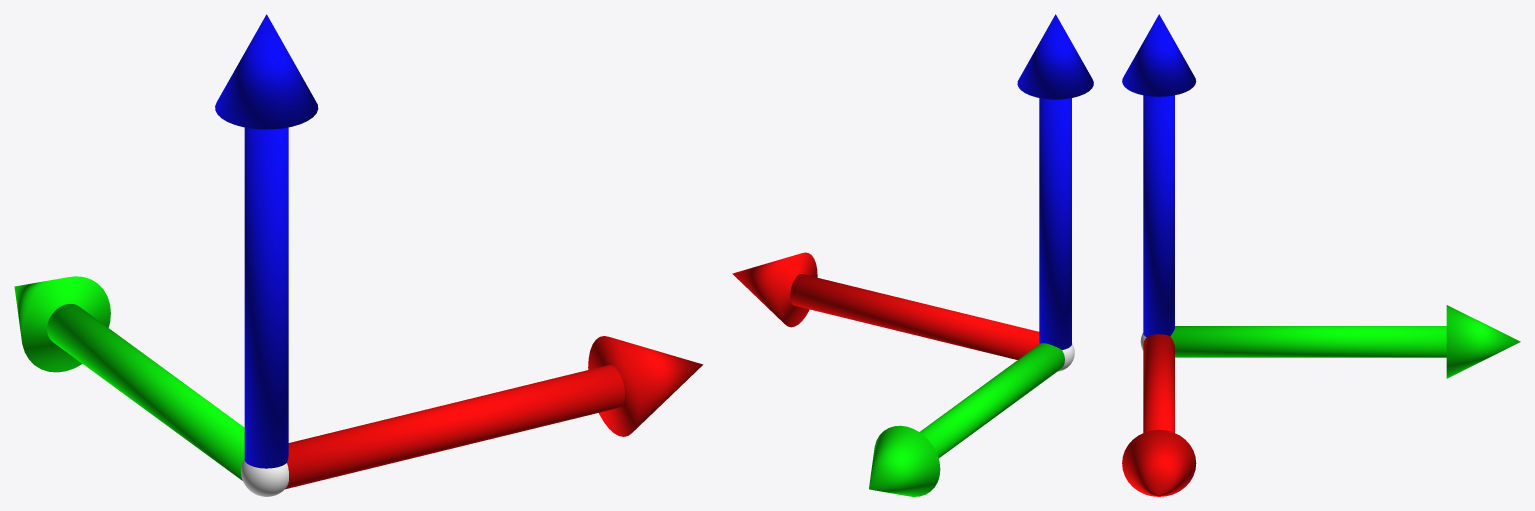
Rendered from Eixo.fbx.
The picture shows the model from 3 angles, left to right: view 1: azimuth 30°, elevation 25°; view 2: azimuth 150°, elevation 25°; view 3: azimuth 270°, elevation 25°; orthographic projection. The views are drawn at different scales.
Parts seen in each view (by area): view 1: Cylinder, Cylinder.001, Cylinder.002, Sphere; view 2: Cylinder, Cylinder.001, Cylinder.002; view 3: Cylinder.002, Cylinder, Cylinder.001.
Part boxes in pixels (x1=…): Cylinder: x1=215, y1=14, x2=318, y2=468; Cylinder.001: x1=285, y1=336, x2=703, y2=489; Cylinder.002: x1=14, y1=276, x2=244, y2=480; Sphere: x1=241, y1=459, x2=288, y2=496; Cylinder: x1=1017, y1=14, x2=1093, y2=349; Cylinder.001: x1=732, y1=252, x2=1039, y2=359; Cylinder.002: x1=869, y1=343, x2=1064, y2=496; Cylinder.002: x1=1170, y1=305, x2=1520, y2=378; Cylinder: x1=1122, y1=14, x2=1196, y2=336; Cylinder.001: x1=1122, y1=334, x2=1196, y2=496.
Bounding box in the file's own units: 2151 × 2151 × 2151.
